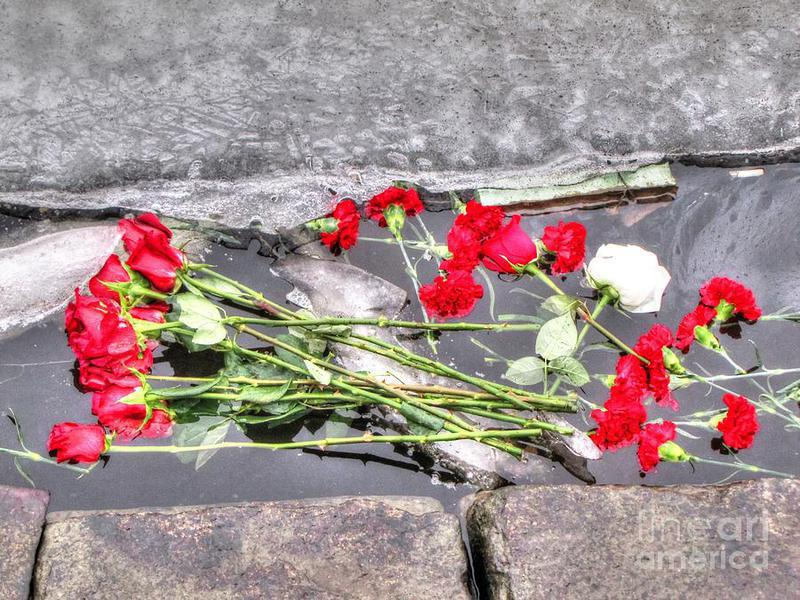flowers: (44, 183, 766, 481)
